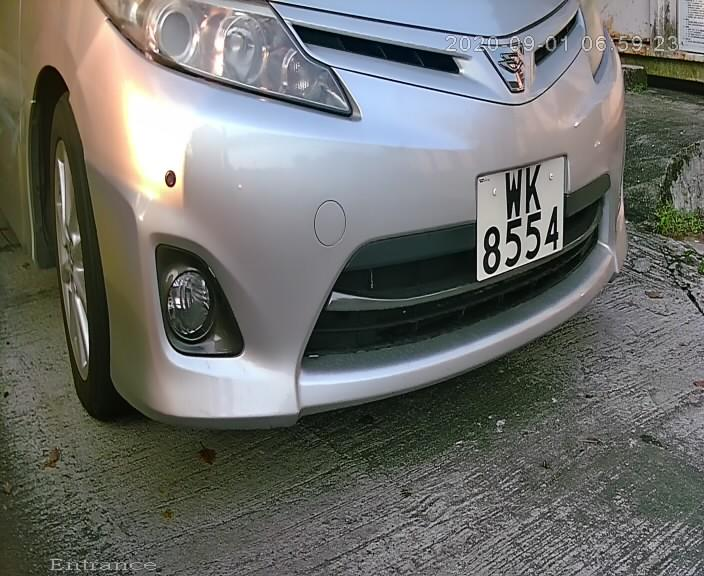Car: (7, 1, 661, 453)
License Plate: (469, 150, 573, 289)
